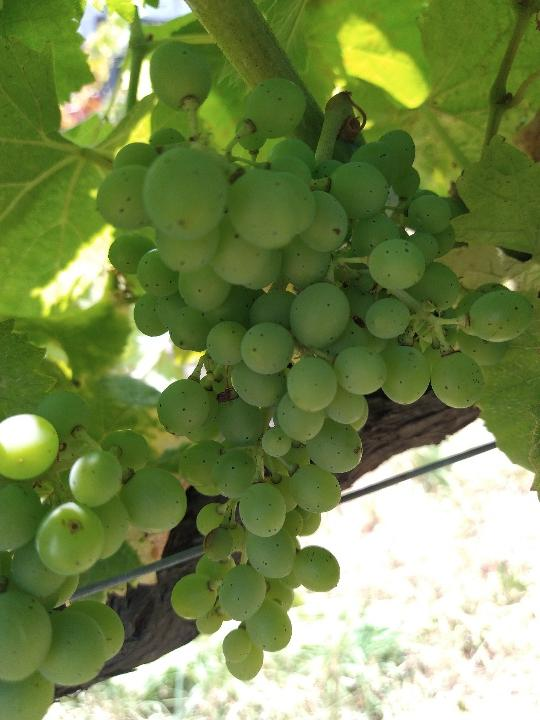grape: (95, 41, 534, 685)
